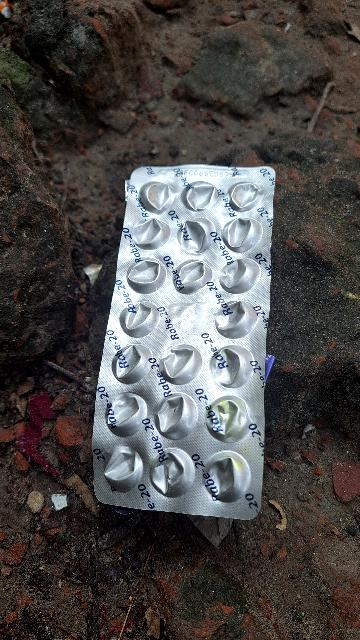medicine: (76, 152, 284, 520)
